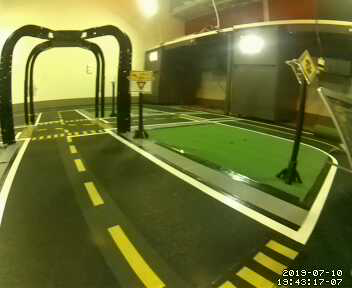Turn Yield: (130, 70, 153, 95)
